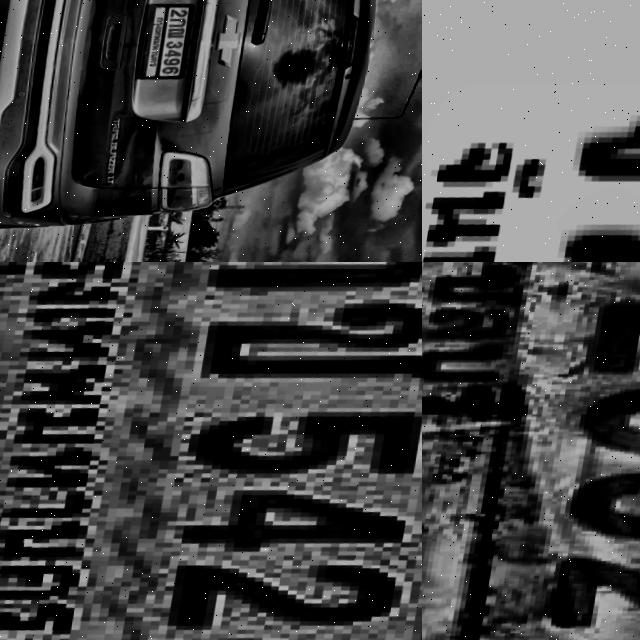license-plate: (0, 262, 422, 640), (422, 262, 640, 640), (422, 0, 640, 262), (135, 2, 205, 90)
